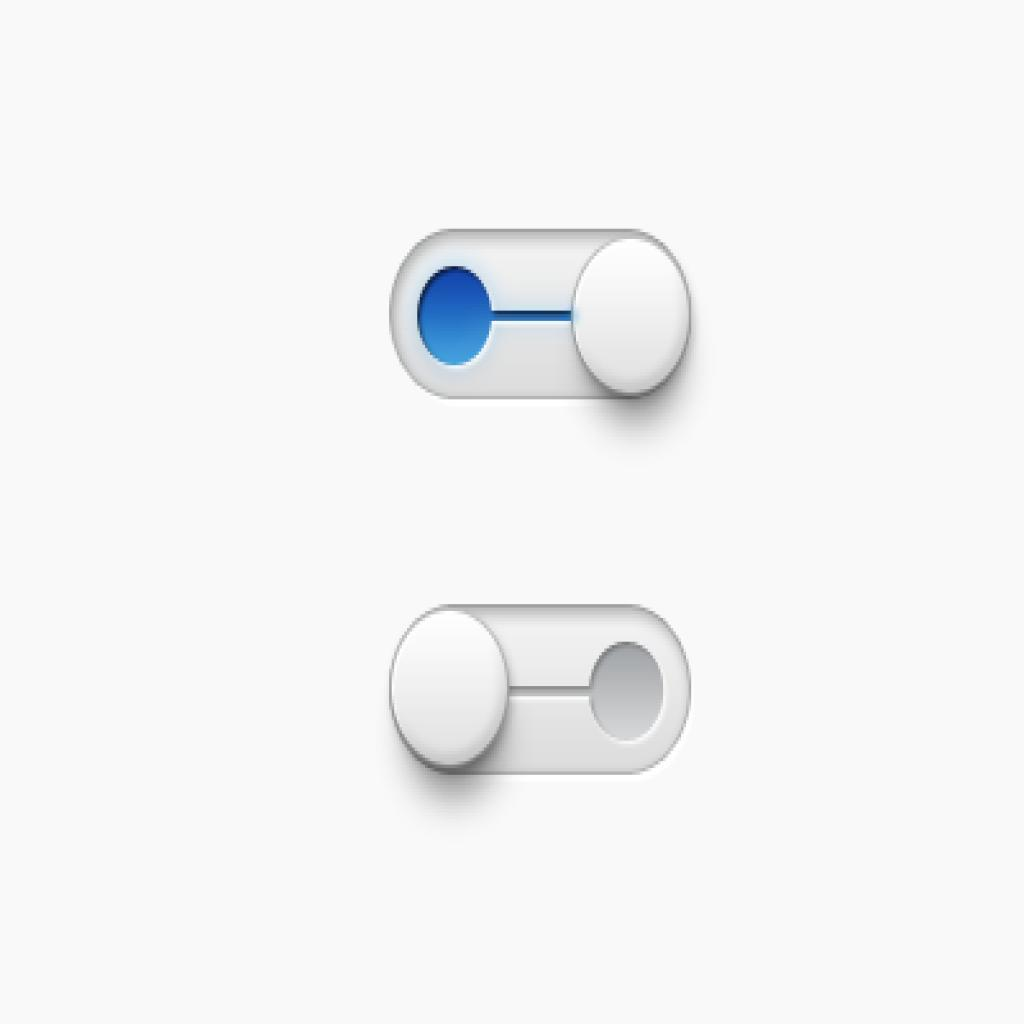switch: (387, 604, 693, 776), (385, 229, 691, 400)
